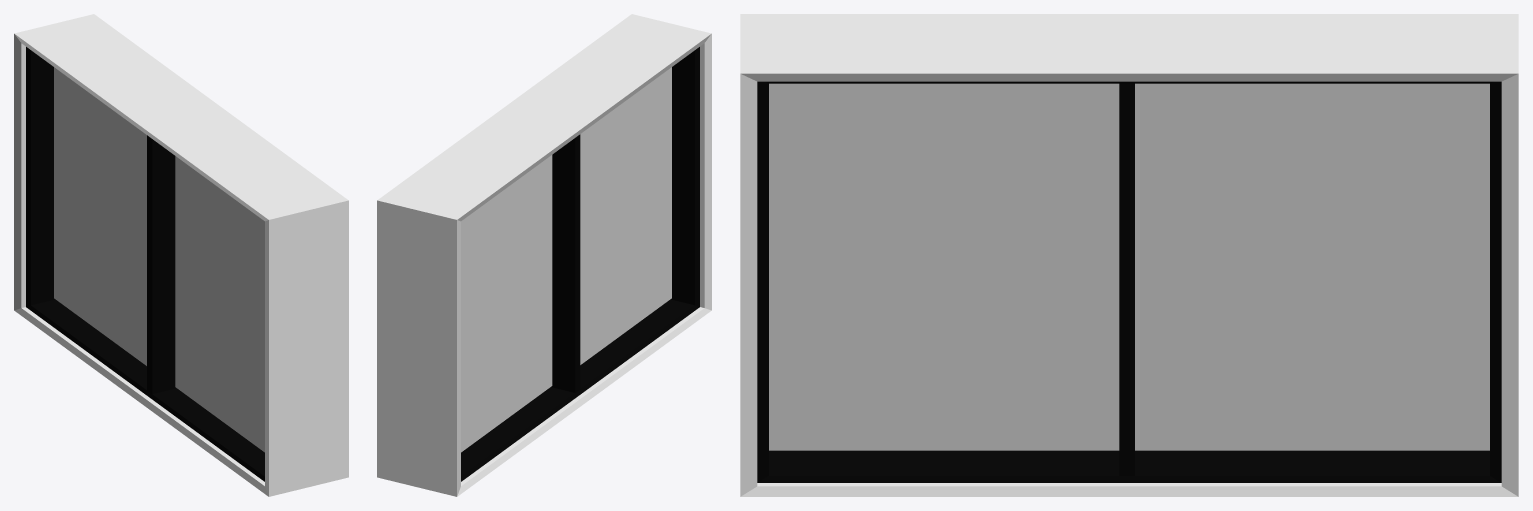
Rendered from Window.fbx.
The picture shows the model from 3 angles, left to right: view 1: azimuth 30°, elevation 25°; view 2: azimuth 150°, elevation 25°; view 3: azimuth 270°, elevation 25°; orthographic projection. The views are drawn at different scales.
Visible parts, largest first — view 1: VentanaMarco.001, Window.001, Ventanas..012; view 2: VentanaMarco.001, Window.001, Ventanas..012; view 3: Window.001, VentanaMarco.001, Ventanas..012.
Boxes of the visible parts, bbox=[...] form: VentanaMarco.001: bbox=[14, 14, 348, 496]; Window.001: bbox=[54, 67, 264, 452]; Ventanas..012: bbox=[26, 47, 264, 481]; VentanaMarco.001: bbox=[377, 14, 711, 496]; Window.001: bbox=[461, 67, 671, 452]; Ventanas..012: bbox=[461, 47, 699, 481]; Window.001: bbox=[769, 83, 1489, 450]; VentanaMarco.001: bbox=[740, 14, 1518, 496]; Ventanas..012: bbox=[757, 81, 1501, 482].
Bounding box in the file's own units: 181 × 600 × 1000.
